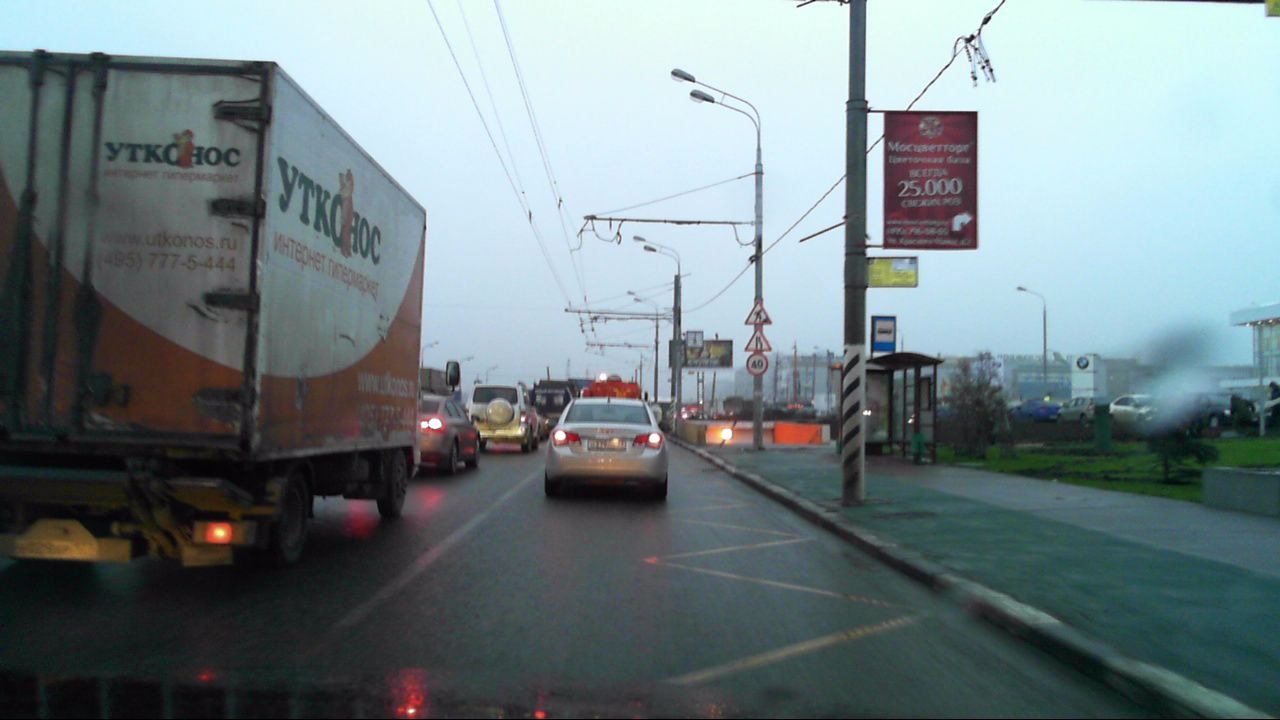speed_warning_40: (745, 352, 769, 375)
